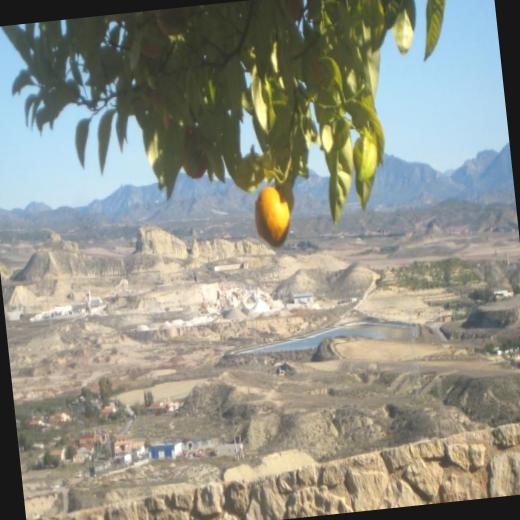Grape: (254, 176, 300, 238)
